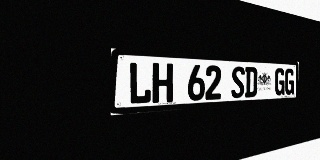2: (205, 65, 221, 100)
6: (188, 64, 205, 101)
D: (245, 67, 257, 97)
G: (275, 68, 285, 96), (285, 68, 294, 95)
H: (152, 63, 173, 103)
L: (128, 62, 152, 105)
S: (231, 66, 245, 98)
